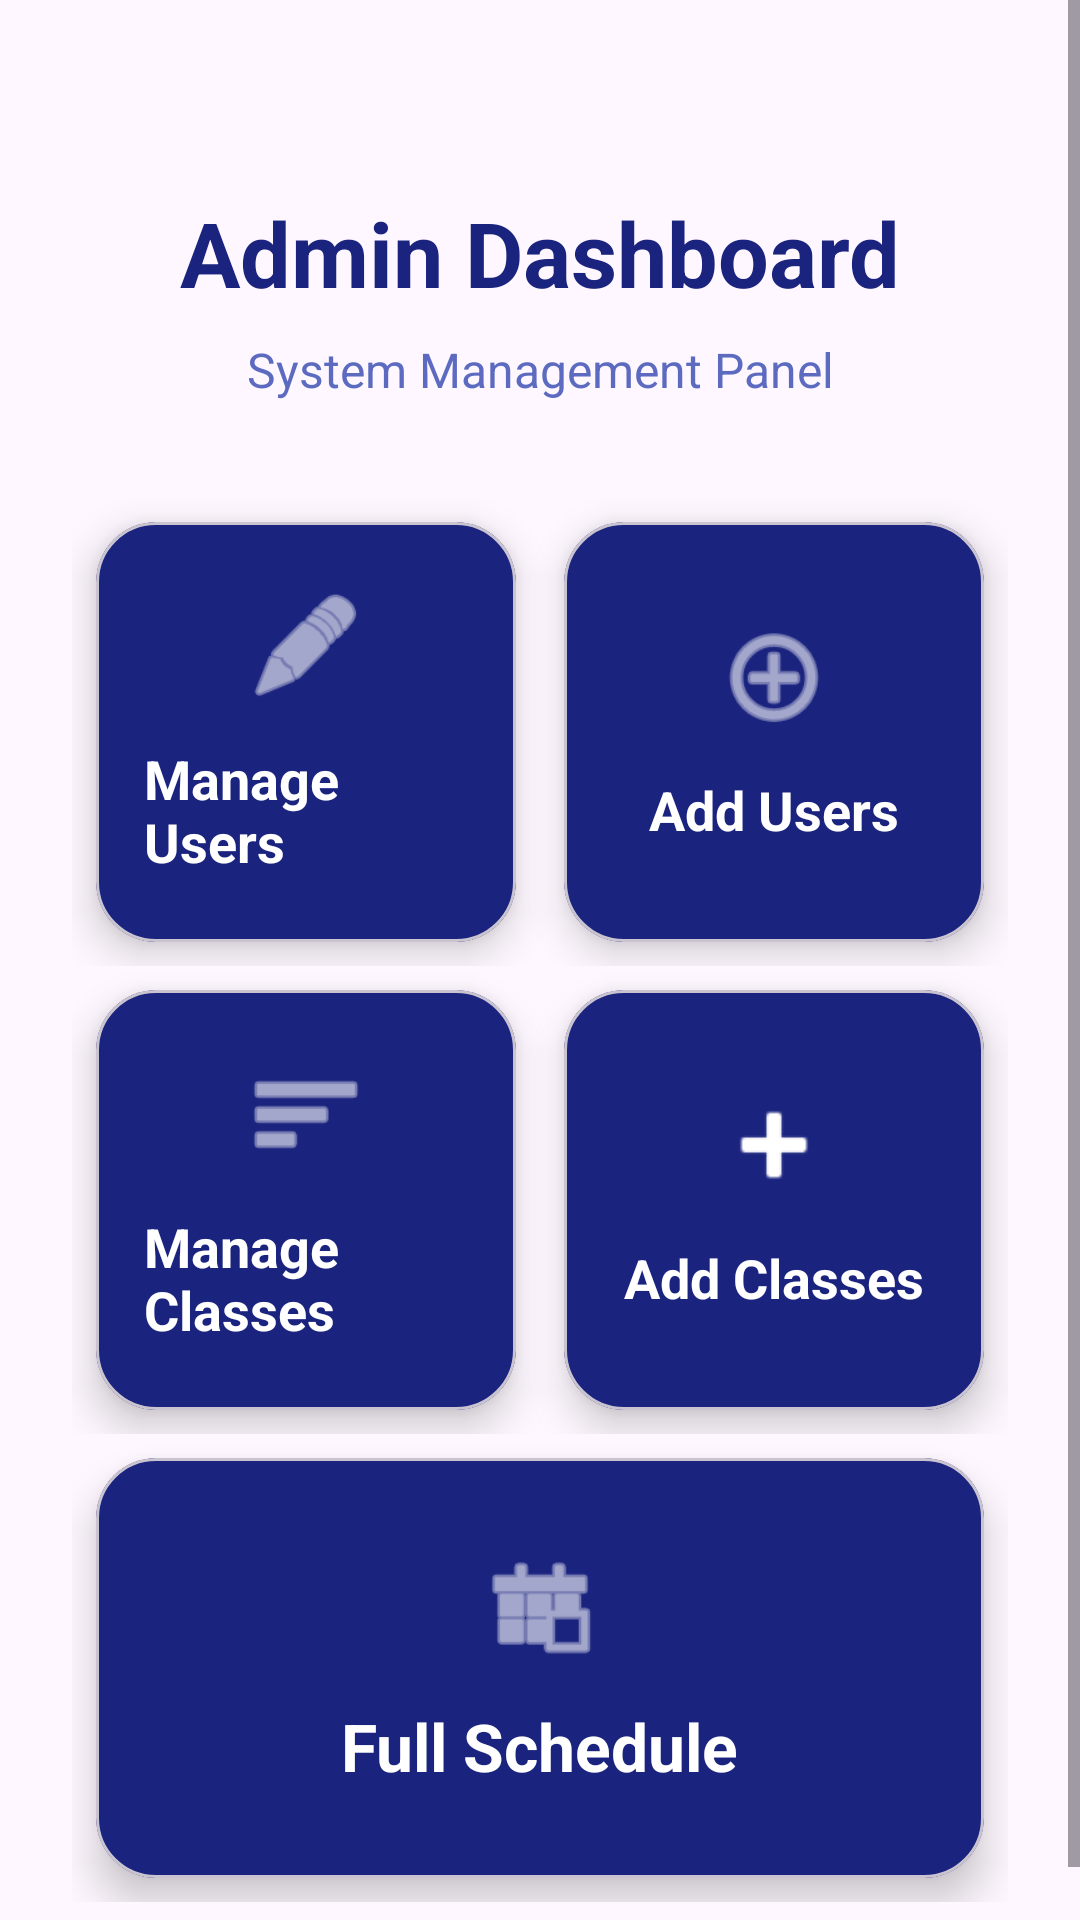

Locate icon controls on the screen. Image size 1080x1920, boxes as {"x1": x1, "y1": y1, "x2": x2, "y2": y2}.
edit: {"x1": 255, "y1": 594, "x2": 356, "y2": 696}
sort by size: {"x1": 254, "y1": 1081, "x2": 358, "y2": 1148}
today: {"x1": 492, "y1": 1562, "x2": 590, "y2": 1654}
